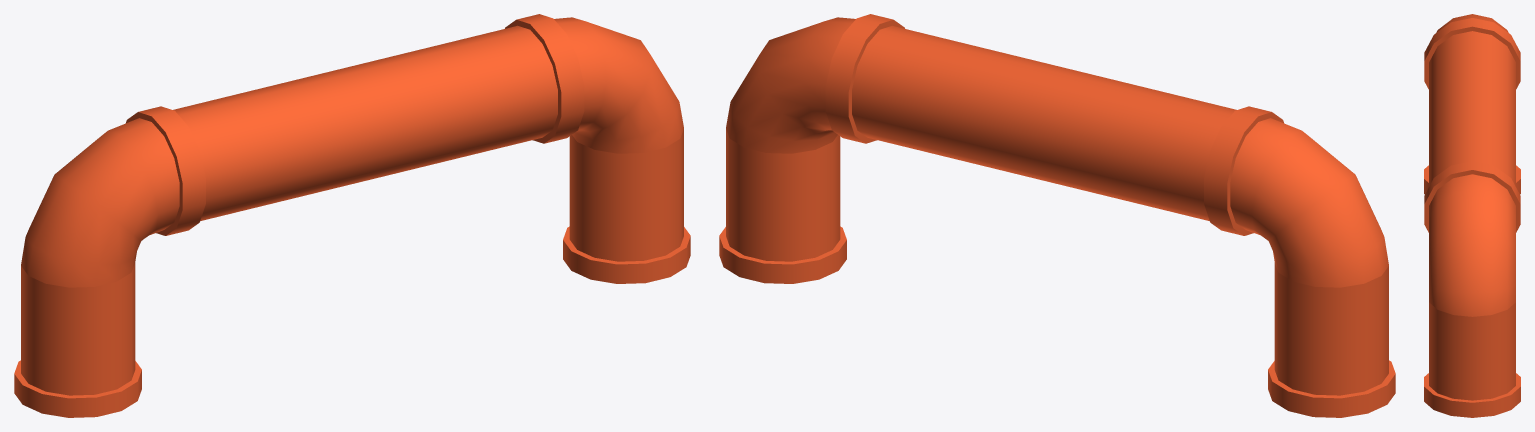
File: Arch.fbx
3 views of the same model, side by side, from view 1: azimuth 30°, elevation 25°; view 2: azimuth 150°, elevation 25°; view 3: azimuth 270°, elevation 25° (orthographic). The views are drawn at different scales.
Parts seen in each view (by area): view 1: Arch; view 2: Arch; view 3: Arch.
Boxes of the visible parts, x1,y1,x2,y2 form: Arch: [14, 14, 690, 417]; Arch: [719, 14, 1395, 417]; Arch: [1424, 14, 1520, 417].
Size of the model in its own units: 507 by 189 by 83.08.
